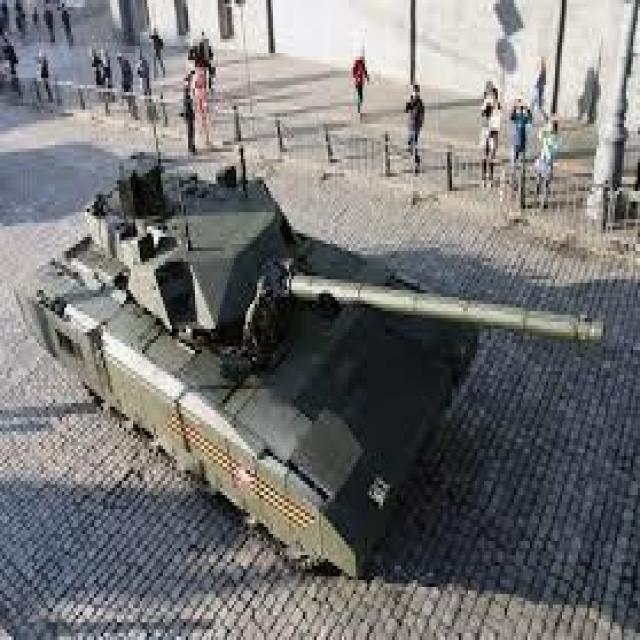MIL_MBT: (10, 138, 487, 587)
